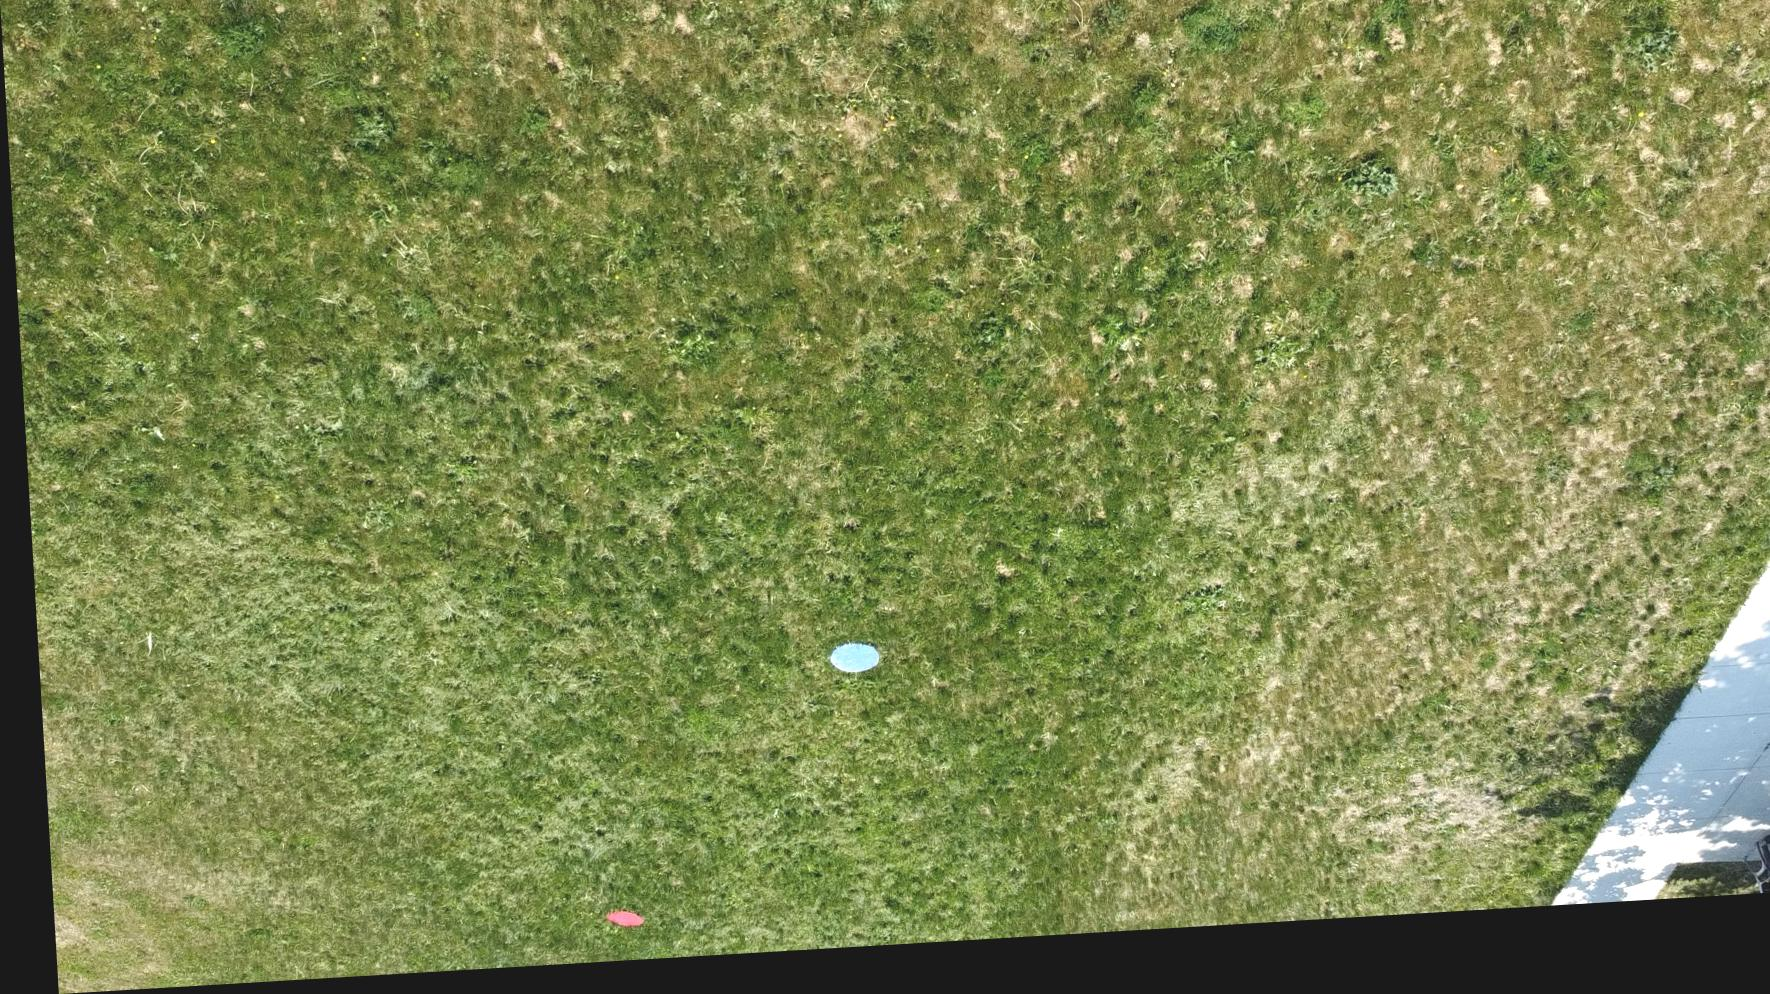Blue: (817, 650, 873, 685)
Red: (590, 914, 635, 939)
